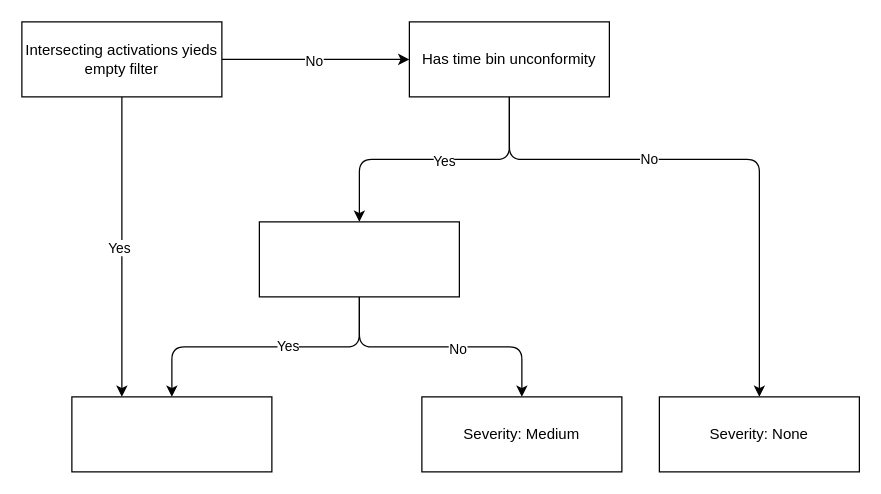
The diagram is 881 pixels wide and 494 high, and some of its shapes have lost their labels. The centre of each missing label's shape, as x and y in pixels:
"All elements are incoherent" goes at [358,259].
"Severity: High" goes at [171,434].
